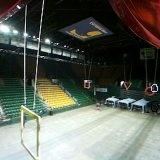Orange_Circle_GShape: (146, 86, 154, 96)
Orange_Square_GShape: (83, 81, 91, 89)
Orange_Triangle_Gshape: (123, 82, 132, 91)
Yellow_Square_GShape: (20, 105, 40, 159)
